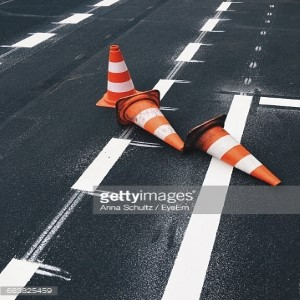traffic cone: (184, 113, 282, 188), (116, 89, 185, 153), (96, 44, 149, 111)
